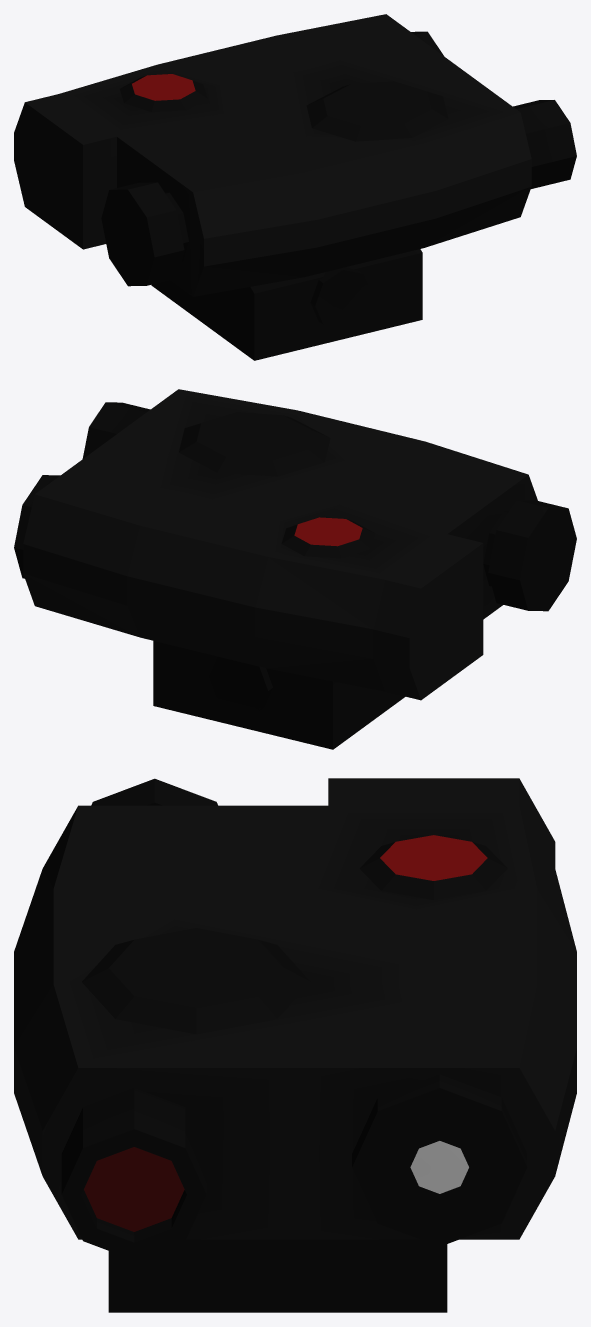
The model's file is k-att-laser-east.glb.
3 views of the same model, one above another, from view 1: azimuth 30°, elevation 25°; view 2: azimuth 150°, elevation 25°; view 3: azimuth 270°, elevation 25° (orthographic). The views are drawn at different scales.
Parts seen in each view (by area): view 1: kit (×4); view 2: kit (×4); view 3: kit (×4).
Boxes of the visible parts, x1,y1,x2,y2 form: kit (×4): [14, 14, 576, 360]; kit (×4): [14, 389, 576, 749]; kit (×4): [14, 778, 576, 1312].
Bounding box in the file's own units: 0.1087 × 0.0496 × 0.0768.
